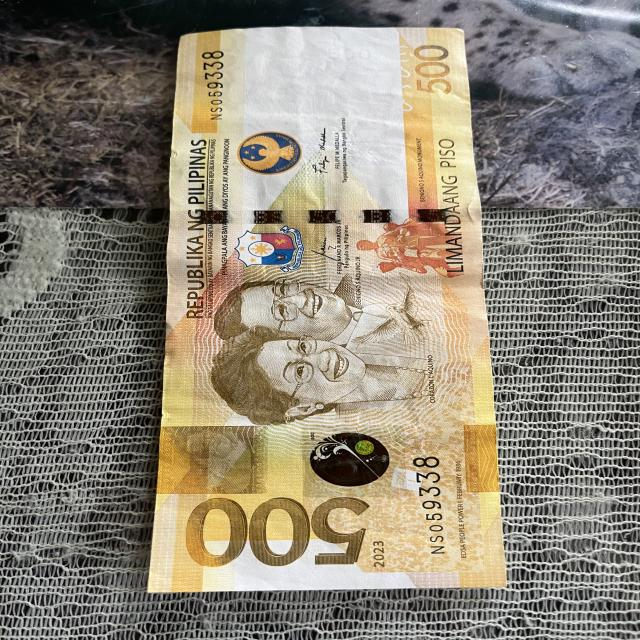concealed_value: (158, 426, 268, 494)
optically_variable_device: (309, 432, 391, 488)
security_thread: (170, 209, 482, 225)
see_through_mark: (386, 44, 416, 113)
serial_number: (408, 452, 452, 563), (200, 48, 228, 121)
value: (187, 495, 370, 566)
value_watermark: (325, 47, 376, 63)
